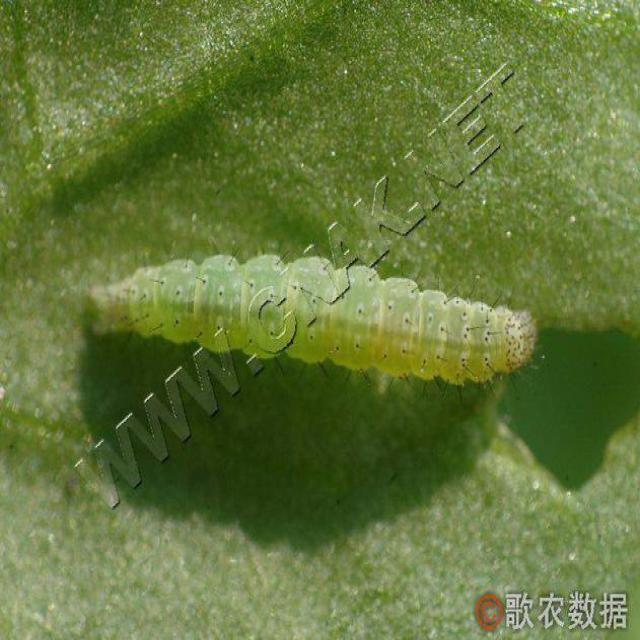armyworm: (87, 242, 541, 413)
